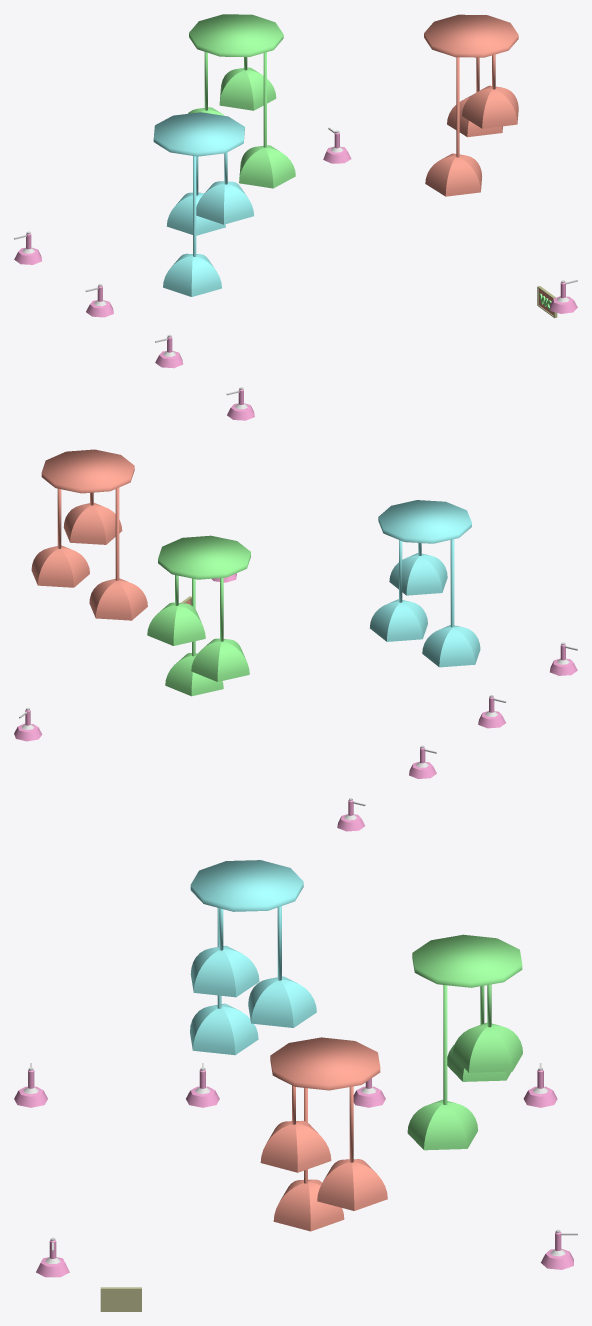
The model's file is Lamps_CoffeCat.fbx.
The picture shows the model from 3 angles, top to bottom: view 1: azimuth 30°, elevation 25°; view 2: azimuth 150°, elevation 25°; view 3: azimuth 270°, elevation 25°; orthographic projection. The views are drawn at different scales.
Parts seen in each view (by area): view 1: LampSpider, LampSpider.002, LampSpider.001, Cylinder.003, Cylinder.001, Cylinder.006, Cylinder, Cylinder.004; view 2: LampSpider.002, LampSpider, LampSpider.001, Cylinder.001, Cylinder.004, Cylinder.006, Cylinder, Cylinder.005; view 3: LampSpider, LampSpider.002, LampSpider.001, Cube, Cylinder.005, Cylinder.001, Cylinder, Cylinder.004, Cylinder.003, Cylinder.006.
Part boxes in pixels (left/top/right/bottom): LampSpider: left=153, top=112, right=253, bottom=296; LampSpider.002: left=424, top=14, right=518, bottom=196; LampSpider.001: left=188, top=14, right=295, bottom=188; Cylinder.003: left=549, top=280, right=577, bottom=313; Cylinder.001: left=226, top=387, right=254, bottom=420; Cylinder.006: left=85, top=284, right=113, bottom=317; Cylinder: left=155, top=334, right=183, bottom=368; Cylinder.004: left=14, top=231, right=41, bottom=264; LampSpider.002: left=31, top=449, right=147, bottom=620; LampSpider: left=370, top=500, right=480, bottom=667; LampSpider.001: left=147, top=535, right=250, bottom=696; Cylinder.001: left=550, top=642, right=577, bottom=675; Cylinder.004: left=337, top=798, right=365, bottom=831; Cylinder.006: left=409, top=745, right=436, bottom=778; Cylinder: left=478, top=695, right=506, bottom=728; Cylinder.005: left=14, top=707, right=42, bottom=741; LampSpider: left=190, top=860, right=316, bottom=1055; LampSpider.002: left=260, top=1037, right=387, bottom=1231; LampSpider.001: left=407, top=934, right=522, bottom=1150; Cube: left=100, top=1287, right=141, bottom=1311; Cylinder.005: left=541, top=1229, right=577, bottom=1269; Cylinder.001: left=14, top=1063, right=47, bottom=1107; Cylinder: left=186, top=1063, right=219, bottom=1107; Cylinder.004: left=523, top=1063, right=557, bottom=1107; Cylinder.003: left=36, top=1237, right=69, bottom=1277; Cylinder.006: left=353, top=1078, right=385, bottom=1107.
Bounding box in the file's own units: 1268 × 627 × 1256.
